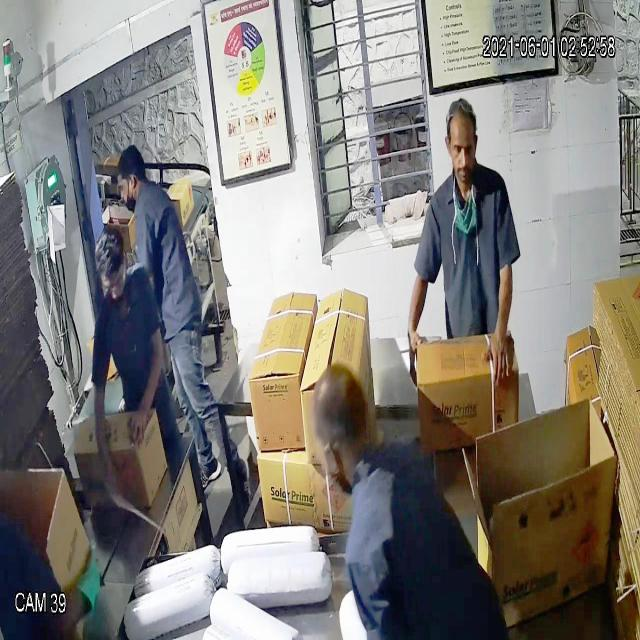glasses: (92, 257, 134, 302)
no-glass: (442, 126, 484, 169)
